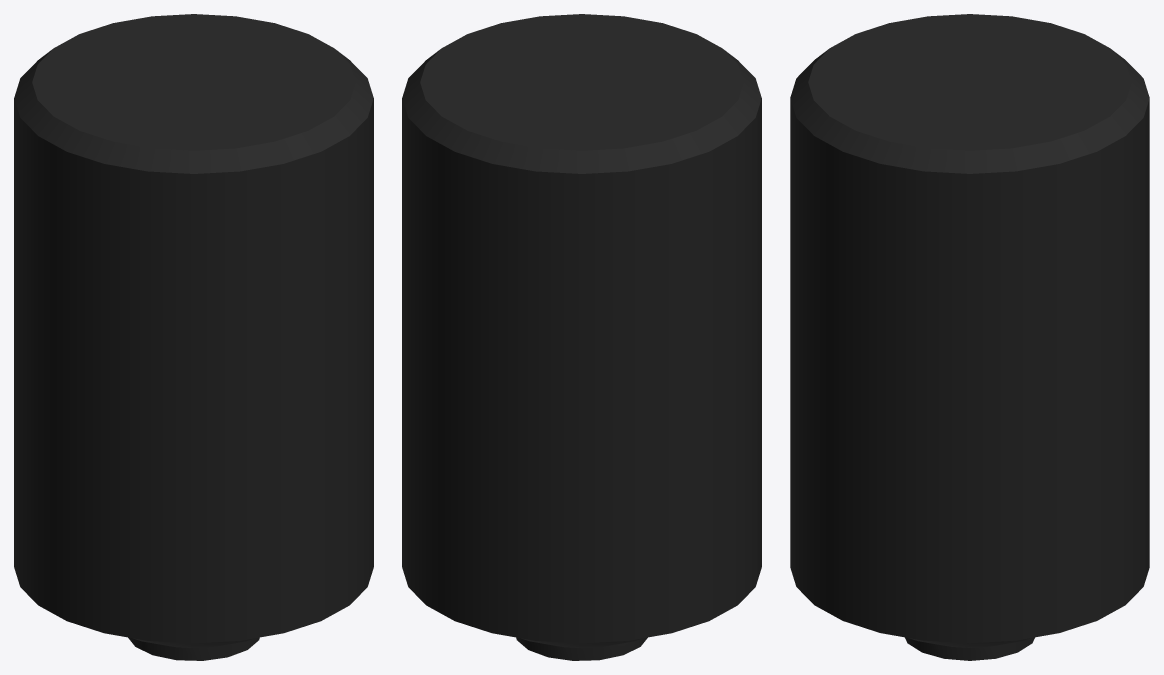
File: Arrow_SRM_0_2.obj
The picture shows the model from 3 angles, left to right: view 1: azimuth 30°, elevation 25°; view 2: azimuth 150°, elevation 25°; view 3: azimuth 270°, elevation 25°; orthographic projection.
Visible parts, largest first — view 1: Arrow_SRM_0_2; view 2: Arrow_SRM_0_2; view 3: Arrow_SRM_0_2.
Boxes of the visible parts, <box> form: Arrow_SRM_0_2: <box>14,14,373,660</box>; Arrow_SRM_0_2: <box>402,14,761,660</box>; Arrow_SRM_0_2: <box>790,14,1149,660</box>.
Bounding box in the file's own units: 0.625 × 1.05 × 0.625.
